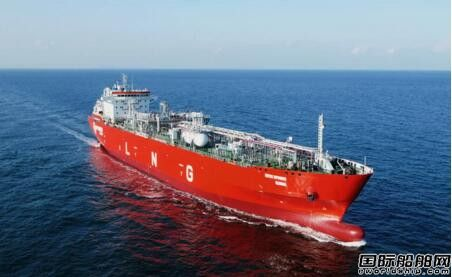Cargoship: (83, 68, 368, 243)
